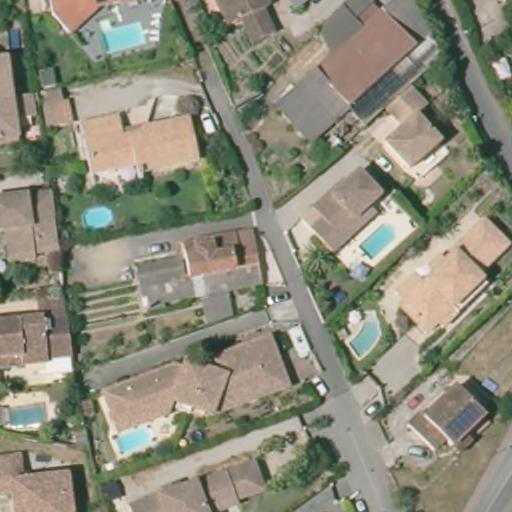pool: (343, 310, 386, 363), (1, 392, 50, 435), (98, 21, 148, 55), (355, 222, 399, 260), (112, 423, 157, 455), (79, 203, 118, 233)
